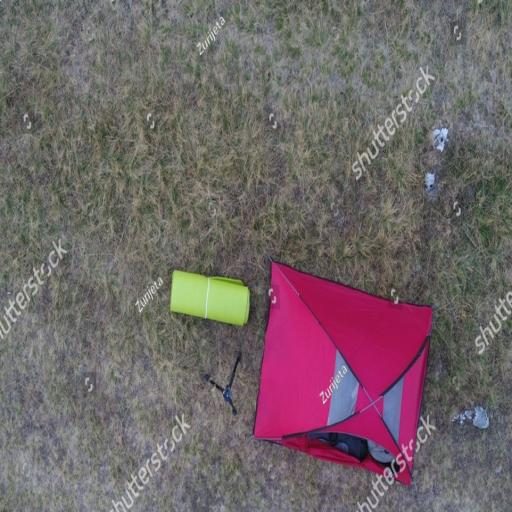tent: (254, 260, 435, 487)
